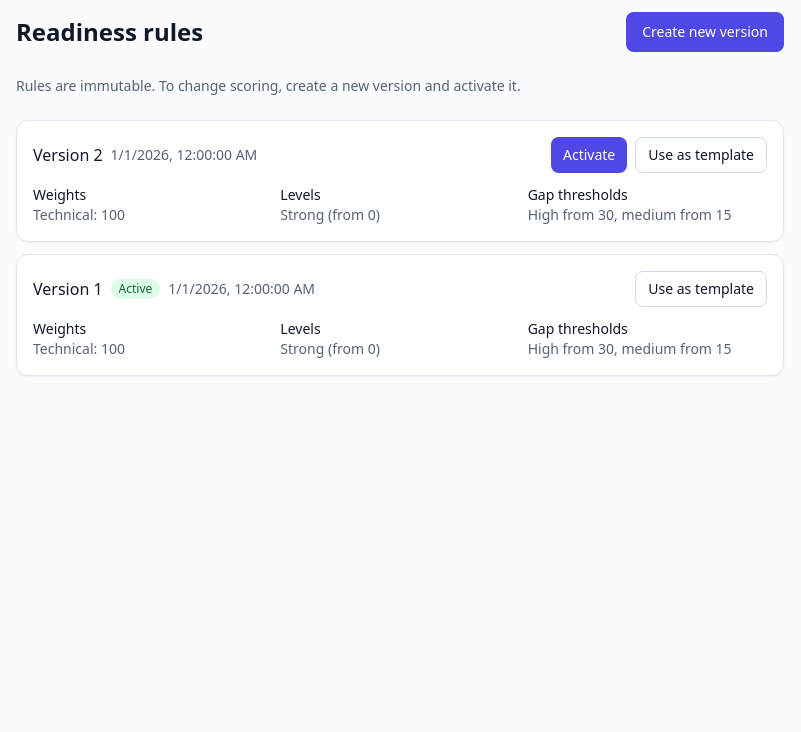
it: AdminReadinessRulesPage › shows the server 422 message when creating a version fails
Click the button "Create new version". click: (705, 32)
box: top-left (626, 12), bottom-right (784, 52)
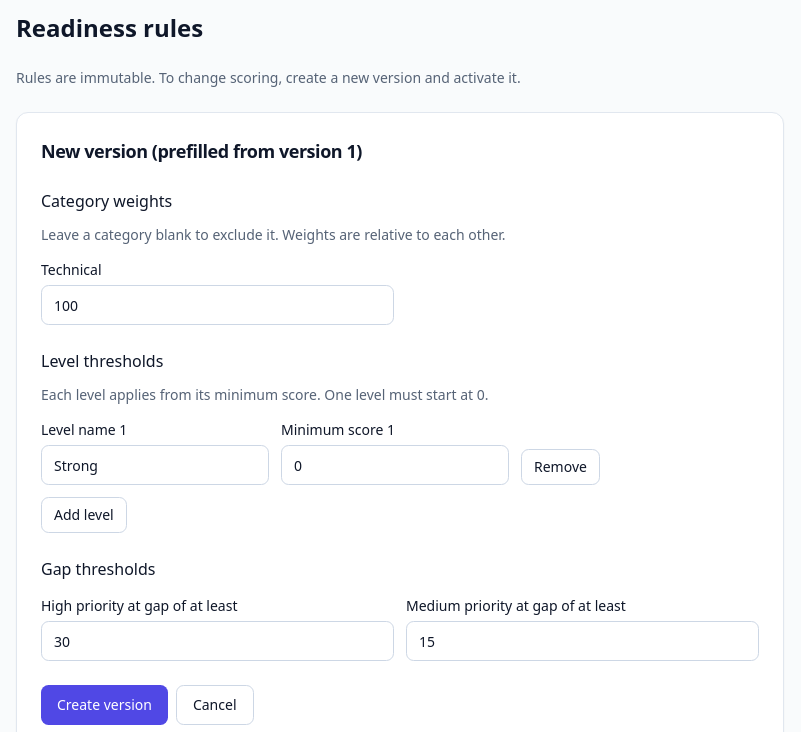
Click the button "Create version". click: (104, 705)
box: top-left (41, 685), bottom-right (168, 725)
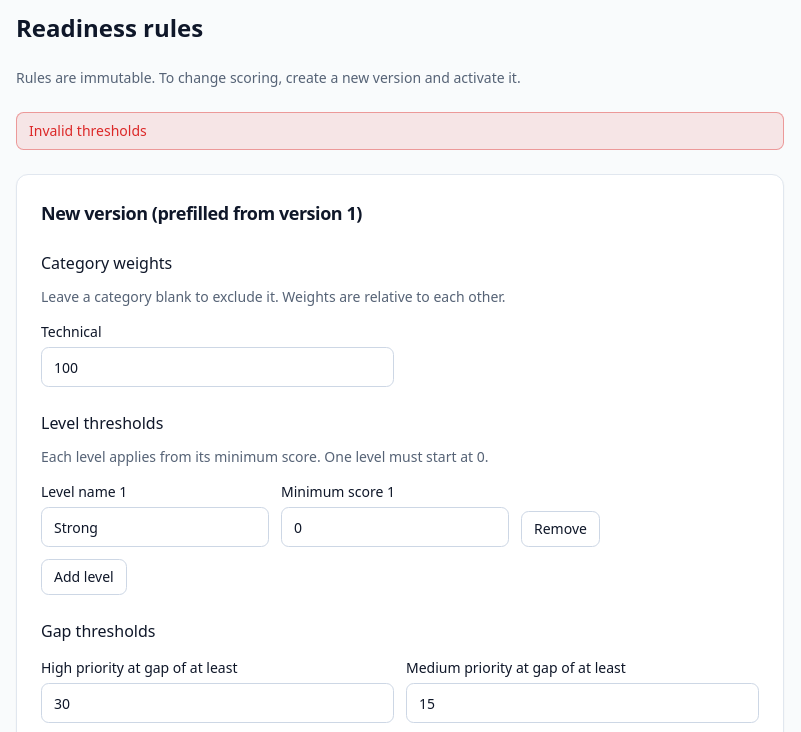
expect the message reads "Invalid thresholds": met, box top-left (29, 121), bottom-right (147, 140)
